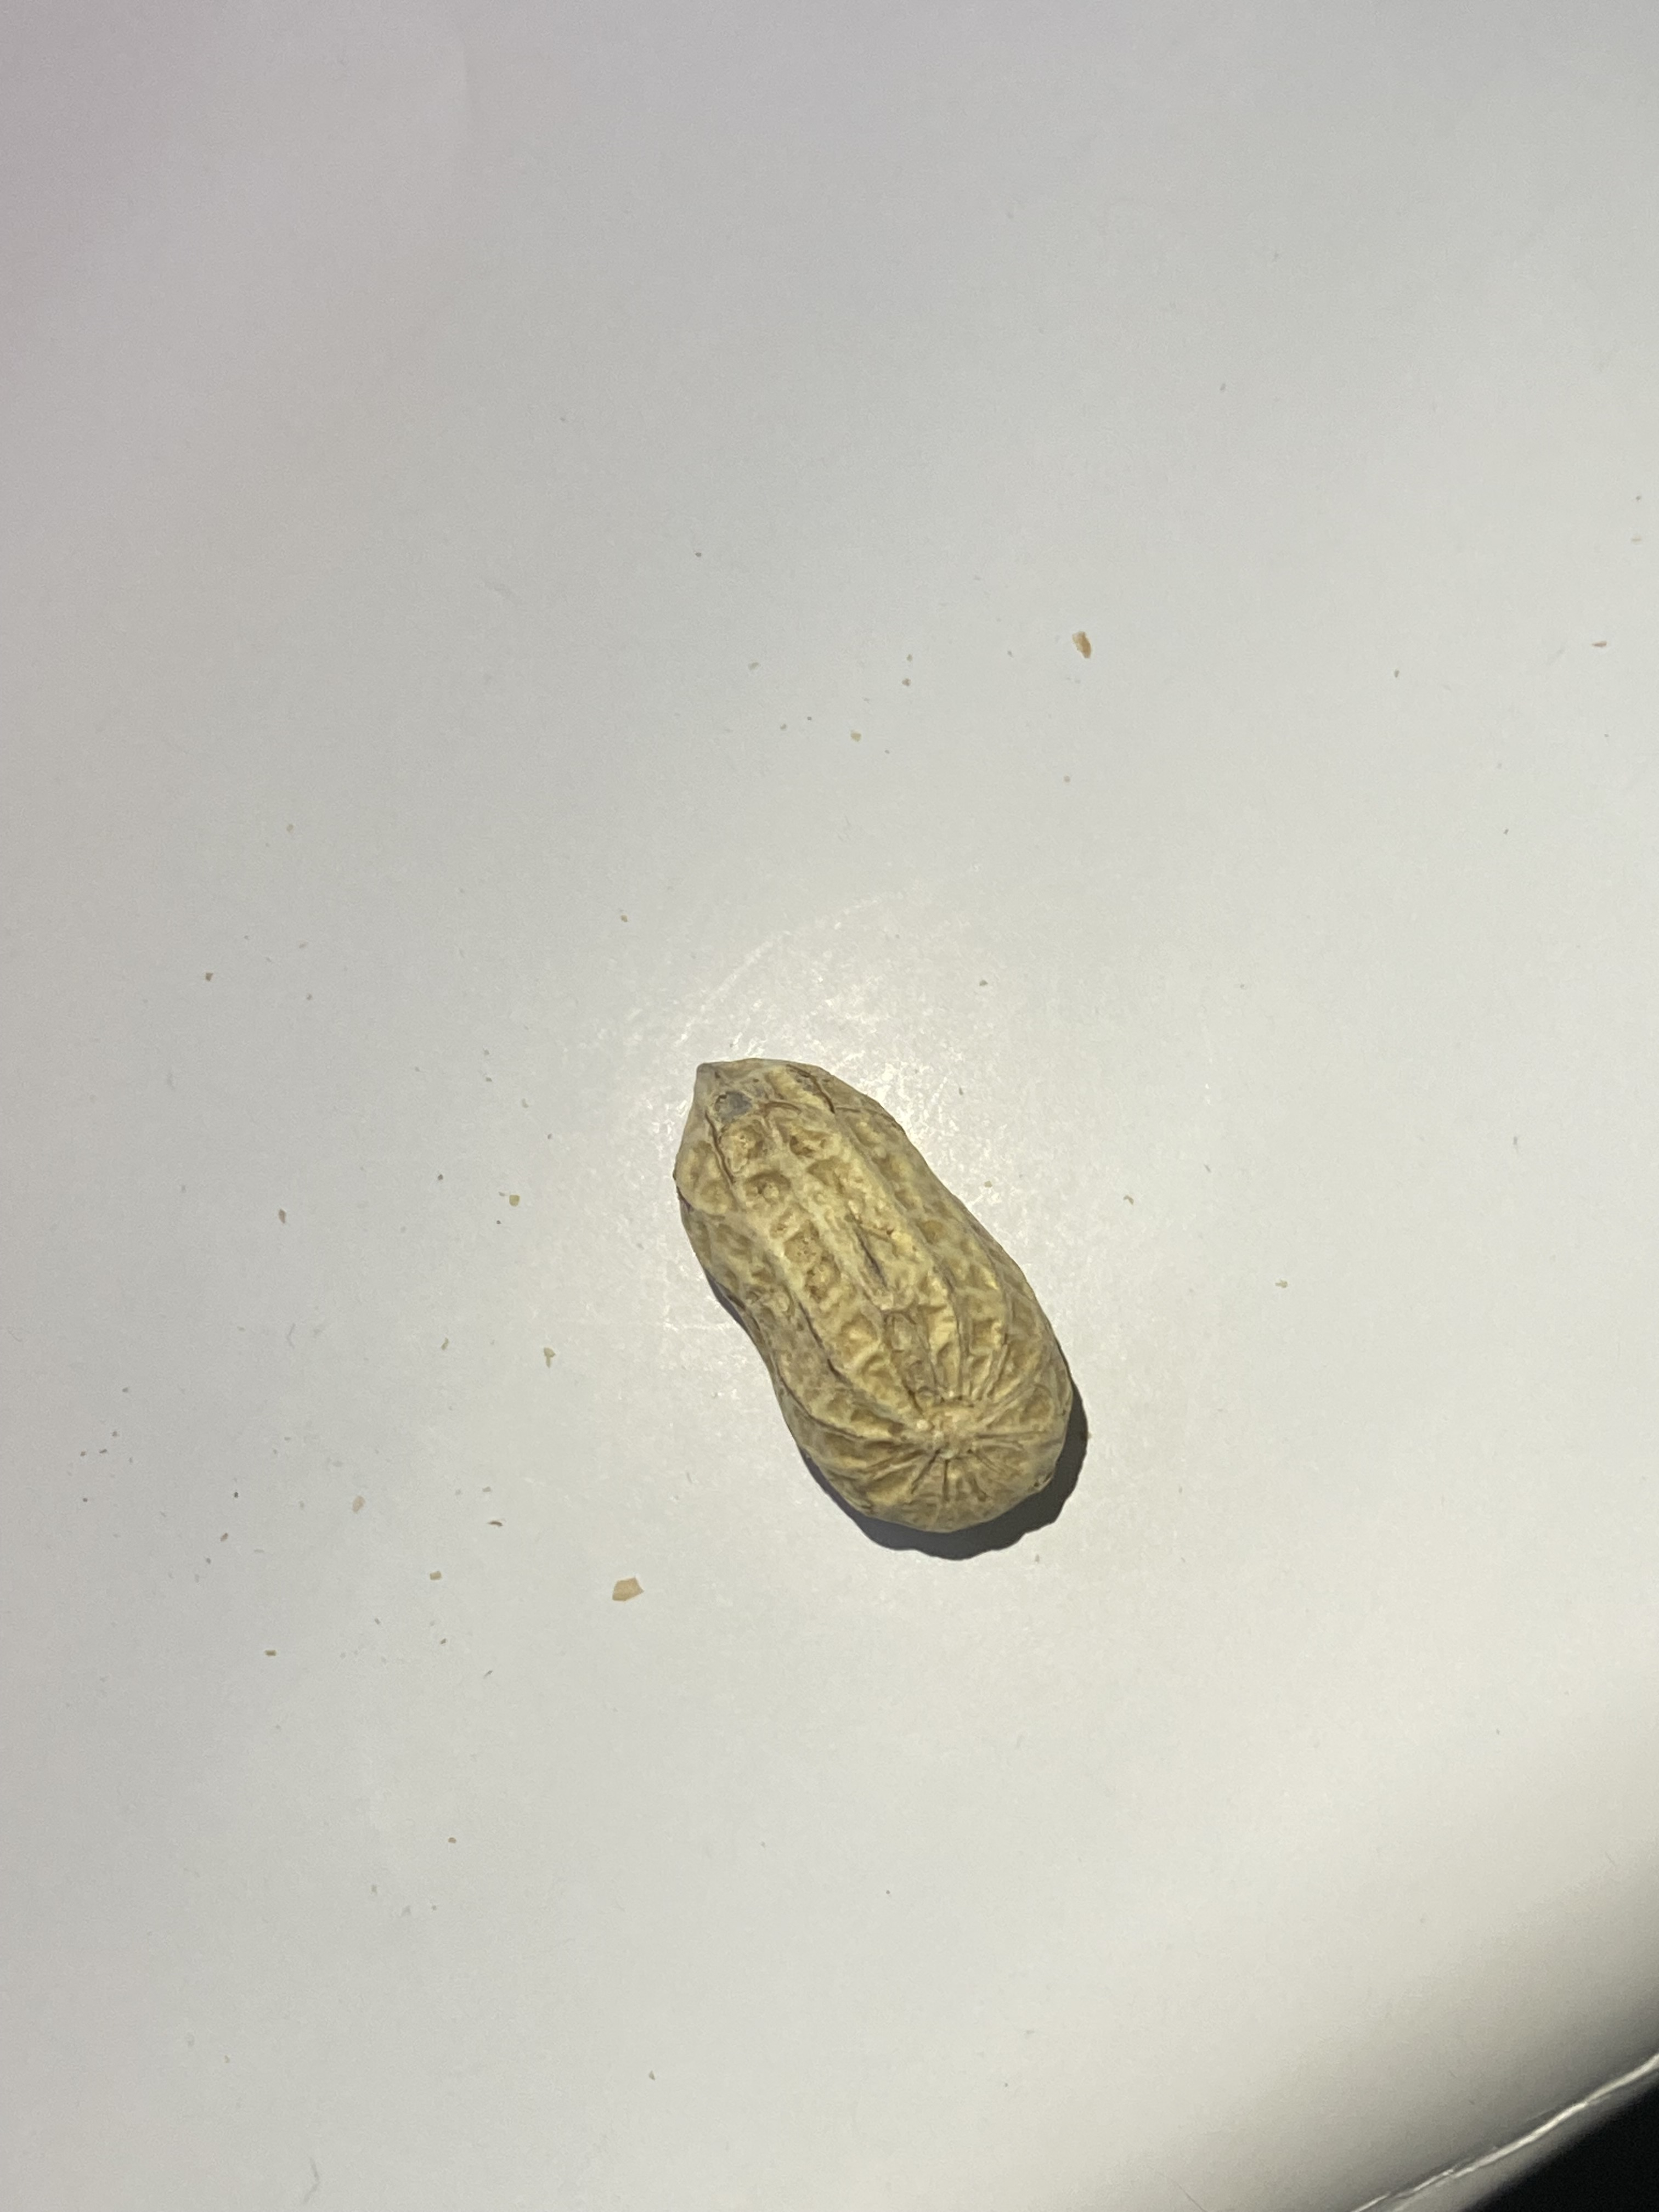kacang2: (657, 1038, 1068, 1562)
